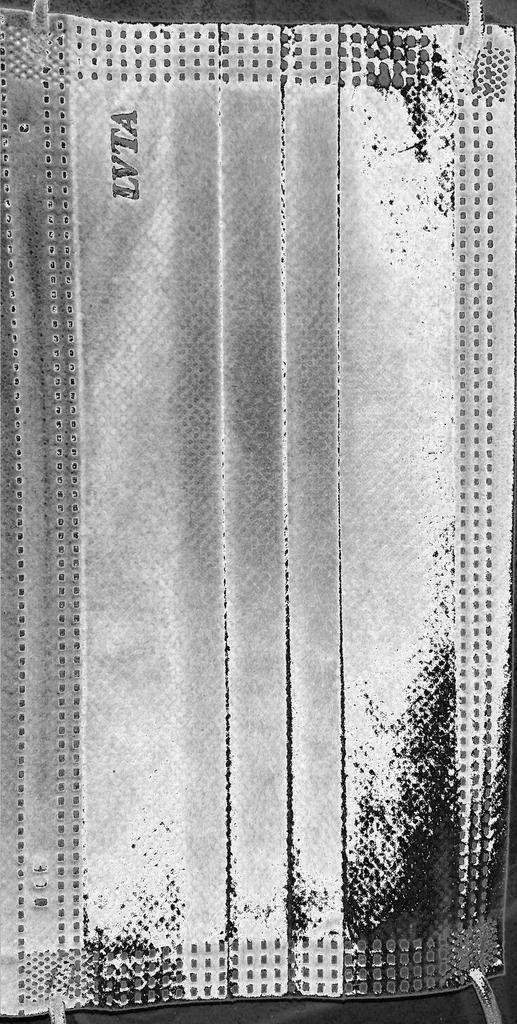High GSM: (85, 10, 458, 947)
